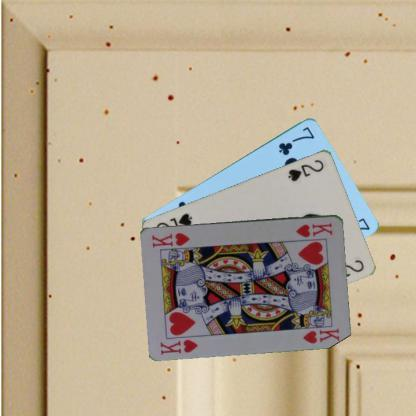2s: (285, 156, 325, 182)
7c: (276, 124, 316, 157)
Kh: (158, 336, 199, 356), (294, 220, 334, 238)
